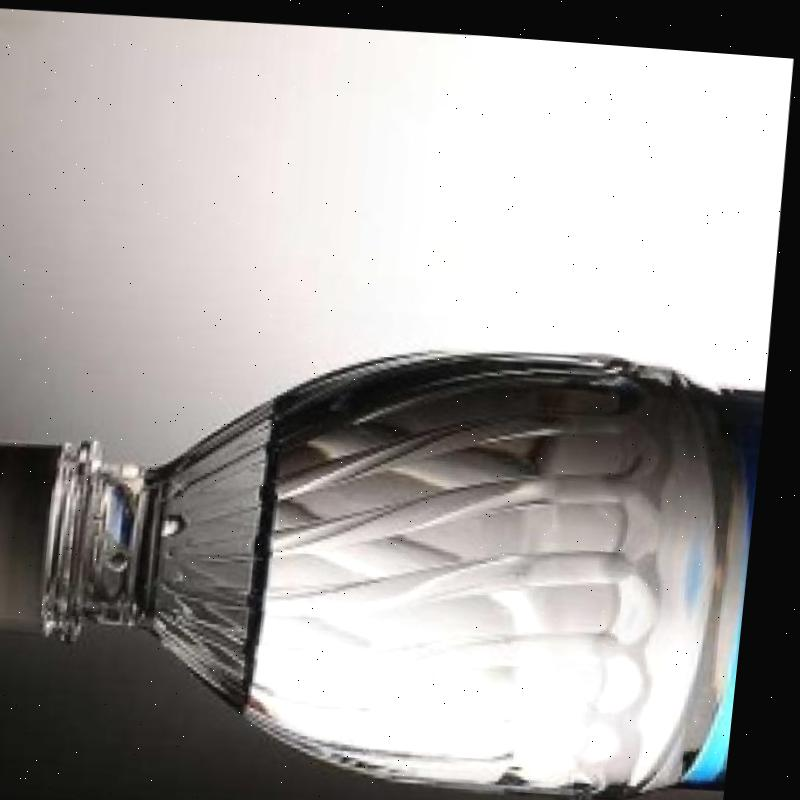botella: (0, 303, 775, 800)
